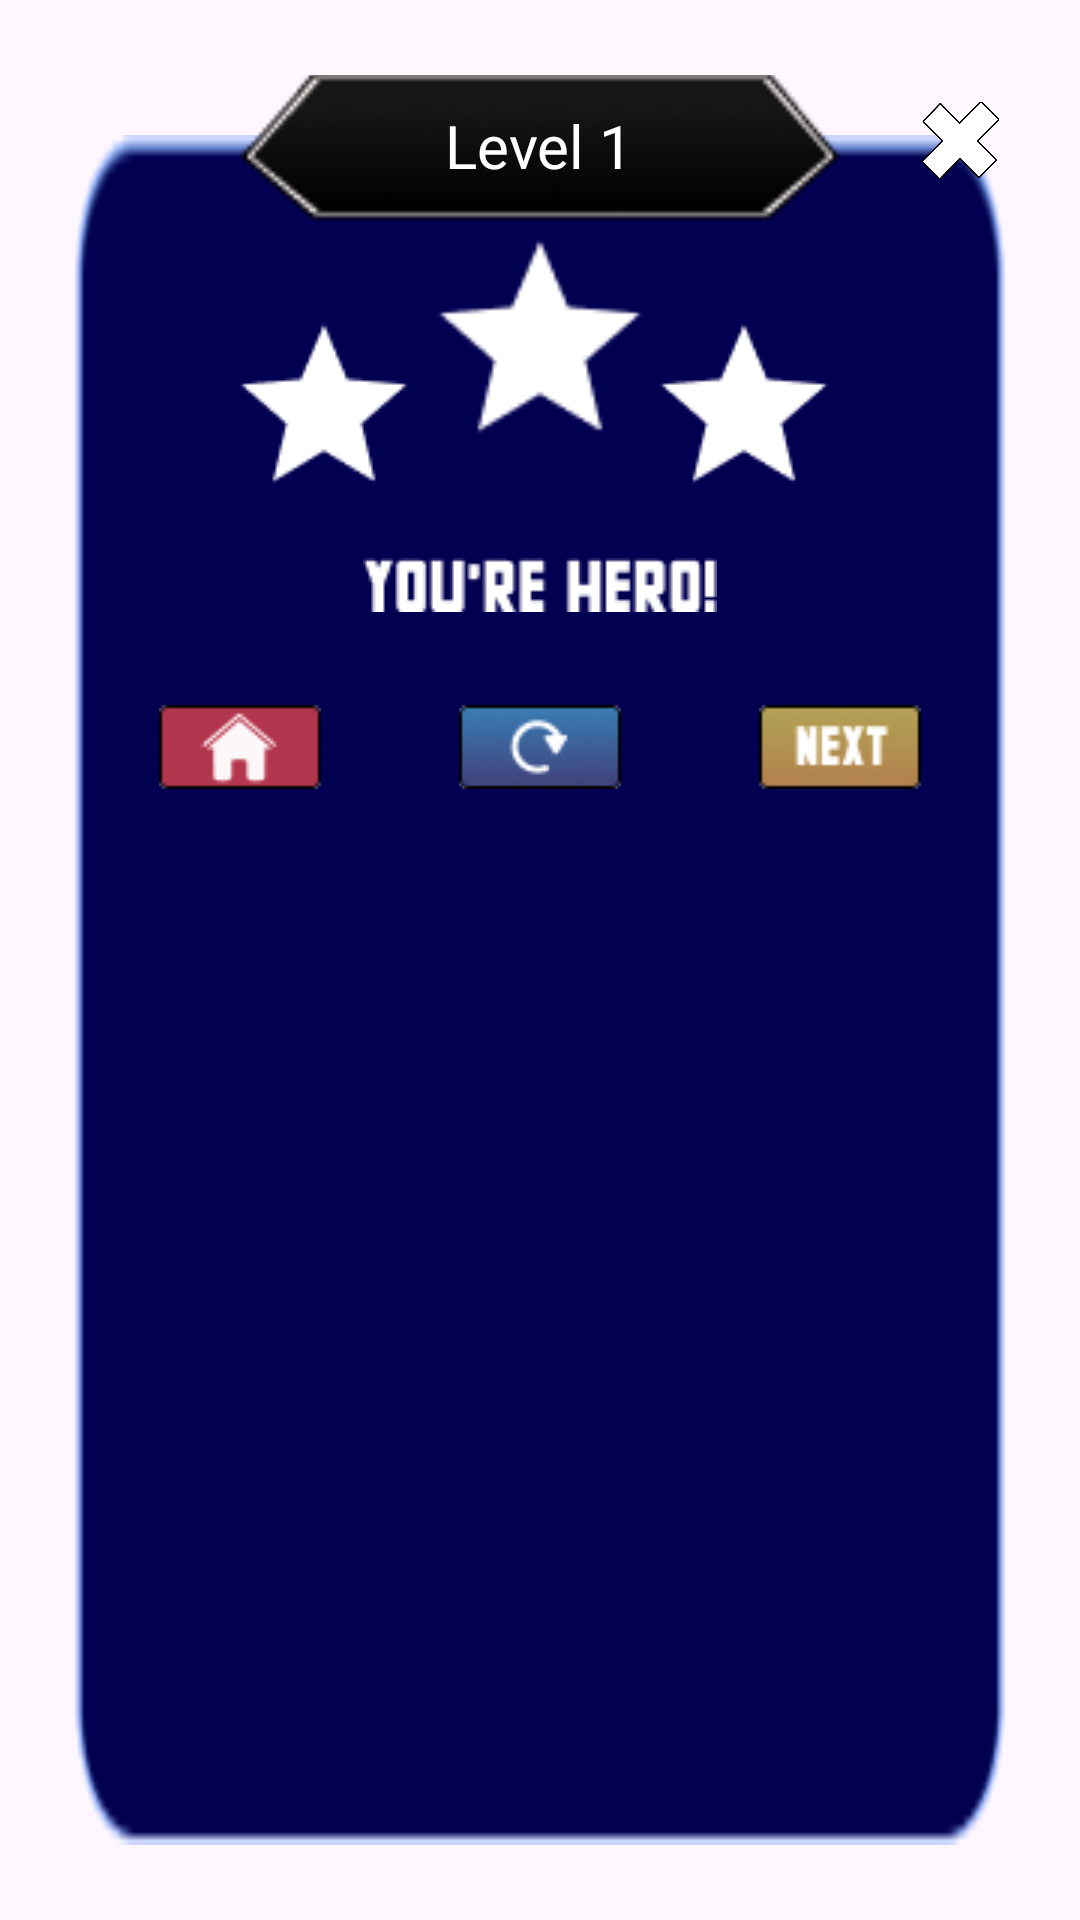

Icon click points for this 1080x1920 phone screenshot, format point (x, y):
game info home: point (240, 747)
game info retry: point (540, 747)
silang: point (960, 141)
